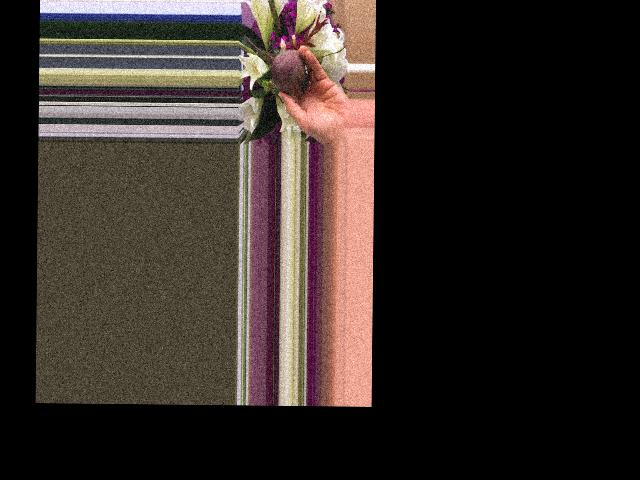beet: (240, 32, 311, 93)
